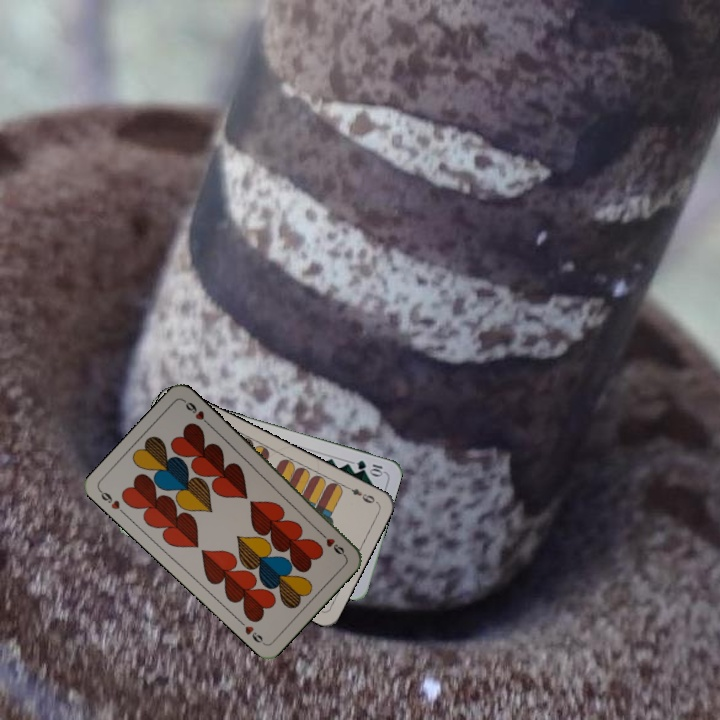E9: (341, 482, 379, 506)
G10: (353, 456, 387, 478)
H9: (315, 527, 348, 559), (95, 486, 128, 518)
